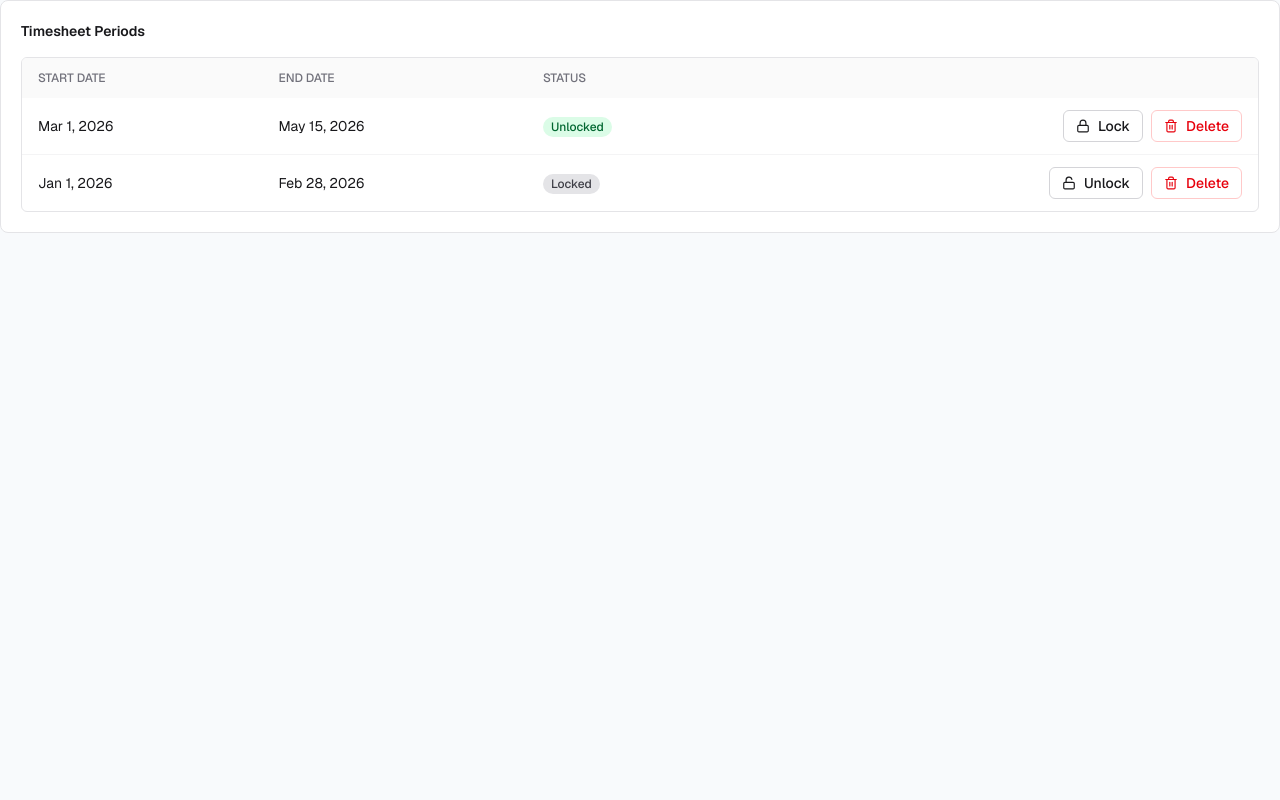
Test case: TimesheetPeriodsTable › surfaces an error message when deleting a period fails
Expected: the text "Unlocked" is shown, 543,116 -> 612,136
Click the button "Delete" in the row of "Mar 1, 2026" at (1196, 126), box 1151,110 -> 1242,142
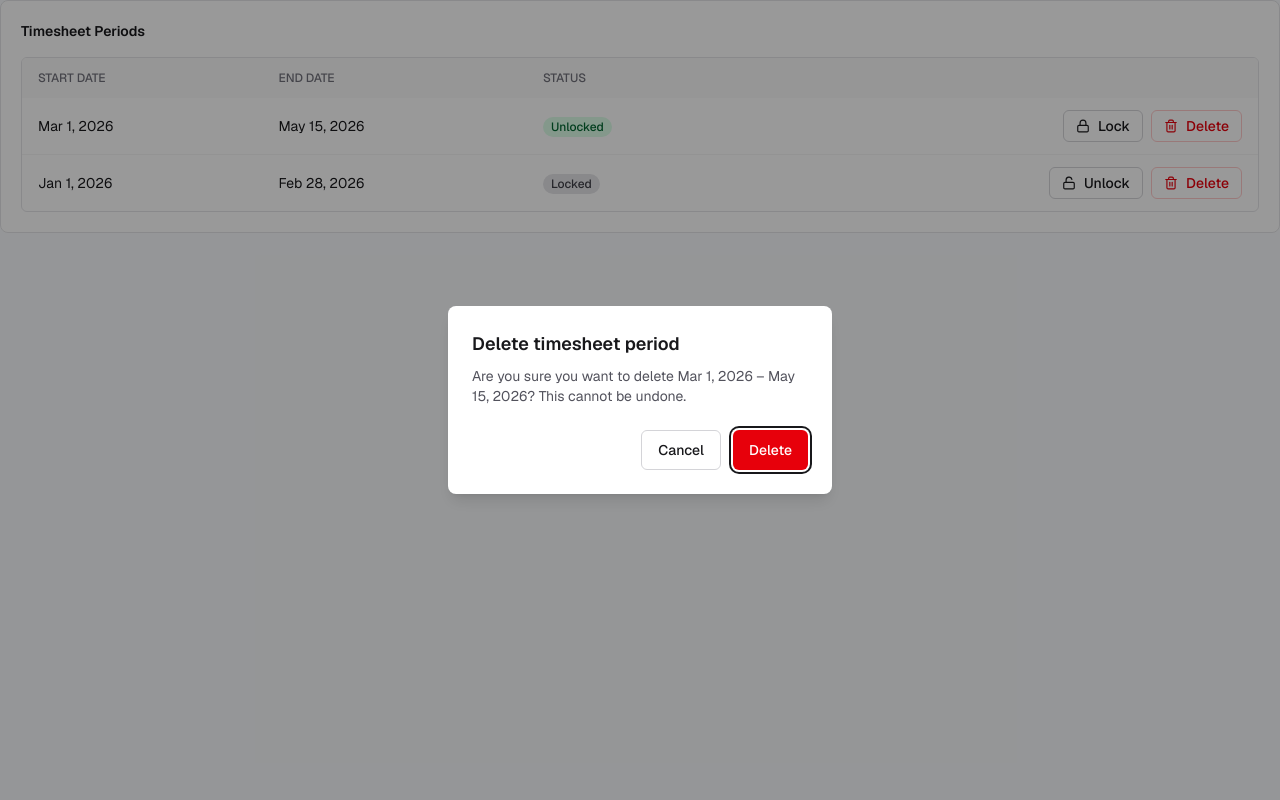
Click the button "Delete" at (770, 450), box 733,430 -> 808,470
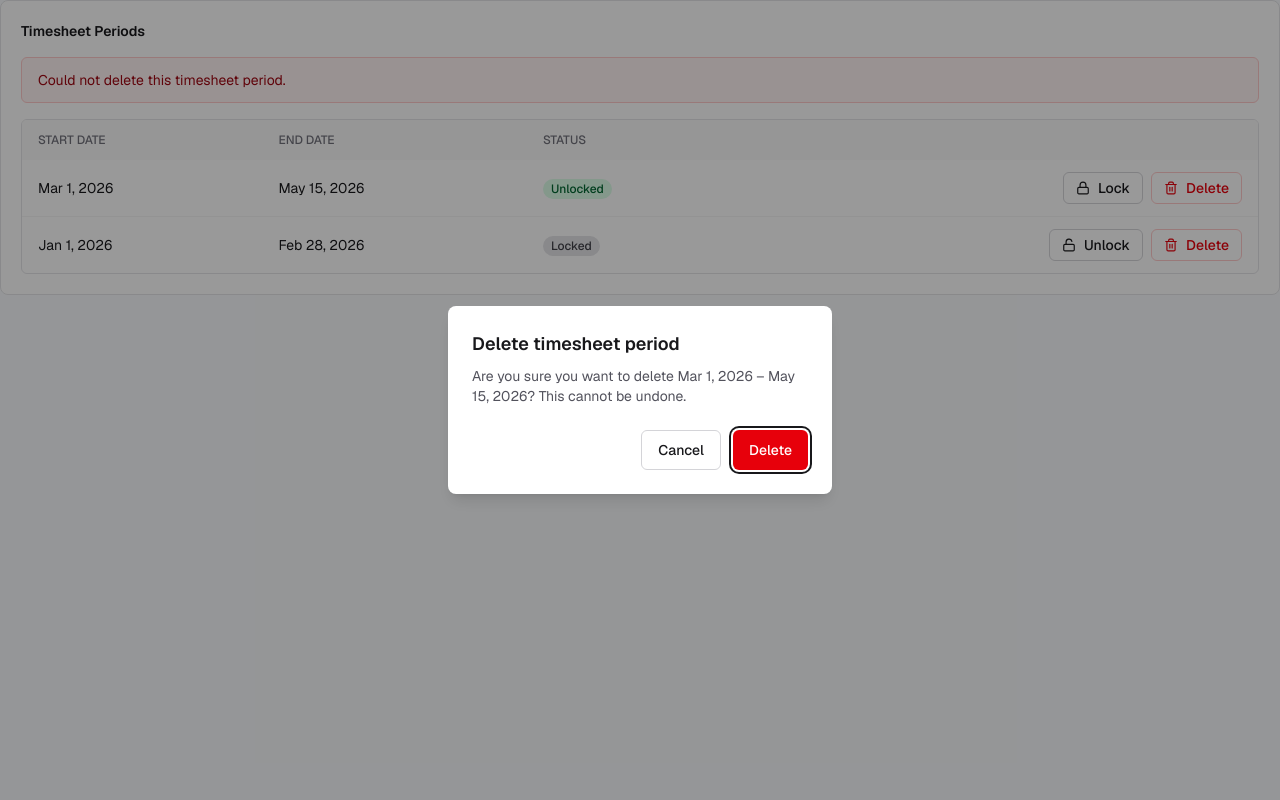
Expected: the text "Could not delete this timesheet period." is shown, 21,57 -> 1259,103
